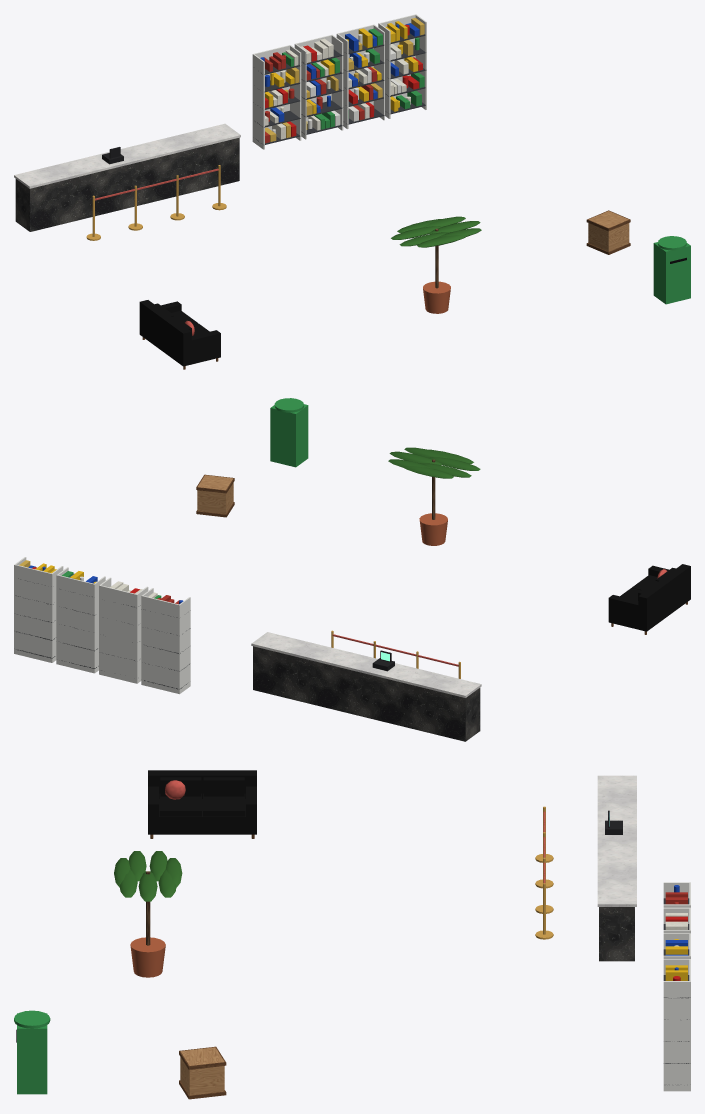
File: i_post_office.gltf
3 renders of one model, top to bottom at view 1: azimuth 30°, elevation 25°; view 2: azimuth 150°, elevation 25°; view 3: azimuth 270°, elevation 25°, orthographic. The views are drawn at different scales.
Parts seen in each view (by area): view 1: I_post_office; view 2: I_post_office; view 3: I_post_office.
Boxes of the visible parts, bbox=[...] form: I_post_office: bbox=[14, 14, 690, 369]; I_post_office: bbox=[14, 398, 690, 741]; I_post_office: bbox=[14, 770, 690, 1099].
Size of the model in its own units: 11.06 by 2 by 11.2.
23 materials, 7 textured.
